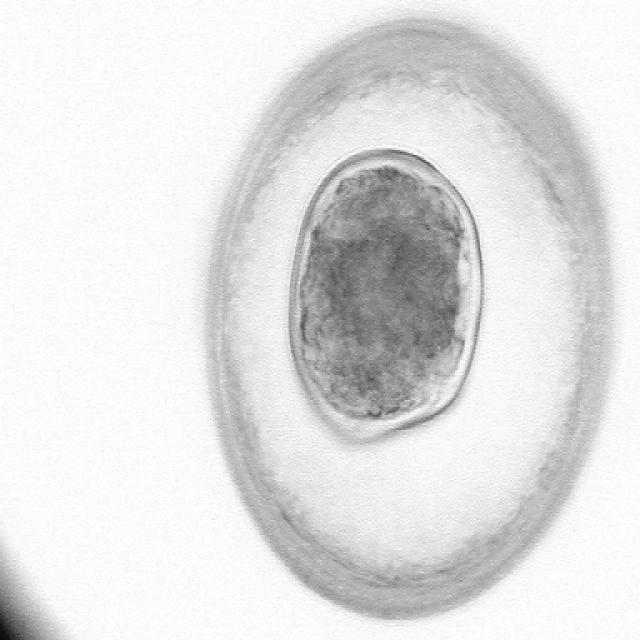Hymenolepis: (193, 7, 619, 636)
